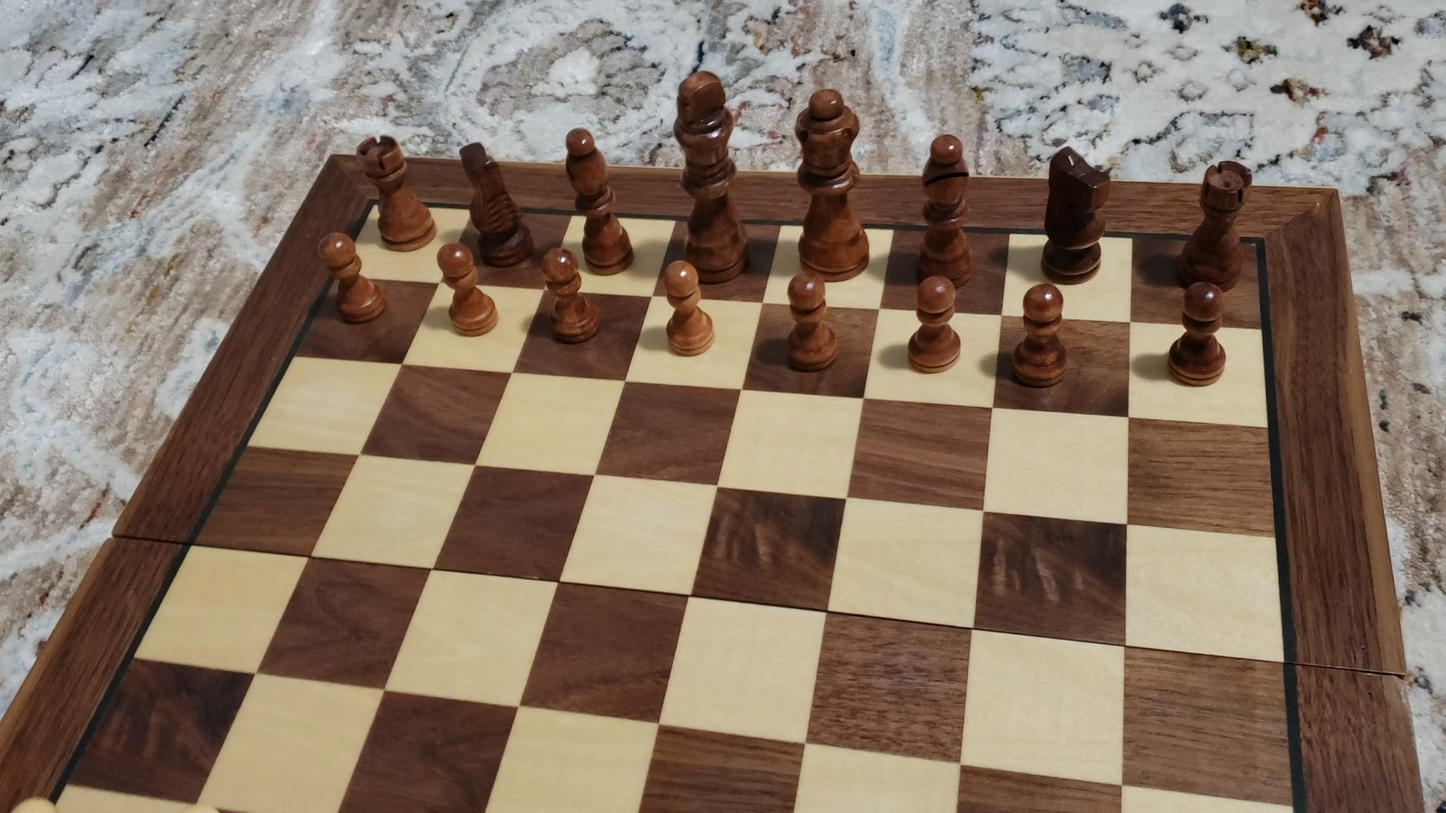black-bishop: (563, 125, 631, 274), (917, 131, 974, 289)
black-king: (670, 65, 748, 283)
black-knight: (1039, 143, 1113, 281), (460, 139, 531, 266)
black-pawn: (1165, 279, 1229, 388), (318, 230, 383, 325), (1012, 281, 1068, 390), (434, 241, 496, 338), (783, 272, 839, 374), (541, 247, 598, 346), (907, 273, 961, 375), (659, 258, 713, 357)
black-queen: (789, 82, 872, 282)
black-rook: (1174, 159, 1255, 290), (355, 133, 434, 250)
